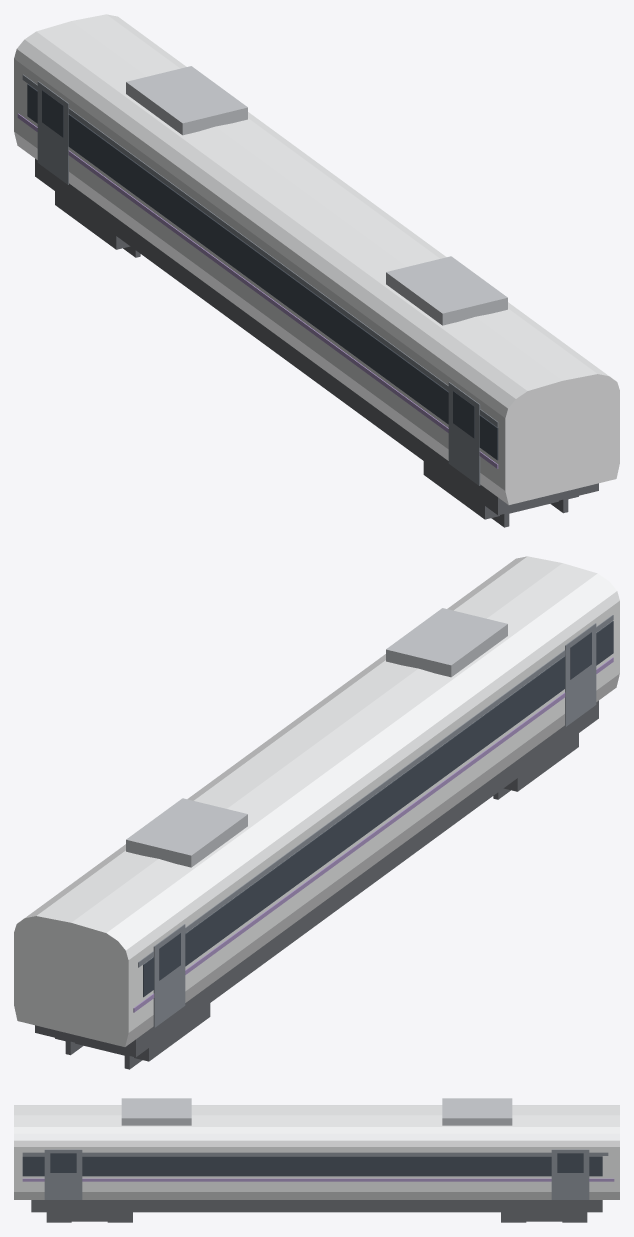
File: kiha261_mid.glb
3 renders of one model, top to bottom at view 1: azimuth 30°, elevation 25°; view 2: azimuth 150°, elevation 25°; view 3: azimuth 270°, elevation 25°, orthographic. The views are drawn at different scales.
Visible parts, largest first — view 1: kiha261_mid; view 2: kiha261_mid; view 3: kiha261_mid.
Boxes of the visible parts, x1,y1,x2,y2 form: kiha261_mid: (14,14,619,527); kiha261_mid: (14,556,619,1069); kiha261_mid: (14,1098,619,1222).
Bounding box in the file's own units: 2.87 × 3.96 × 20.8.
